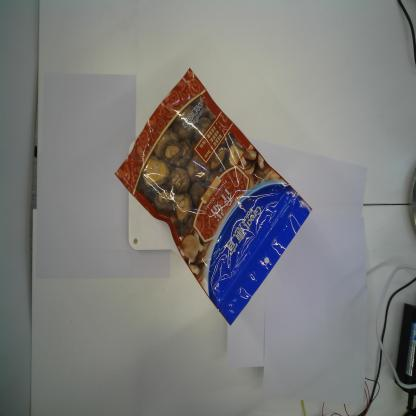Dried Food: (112, 65, 313, 329)
